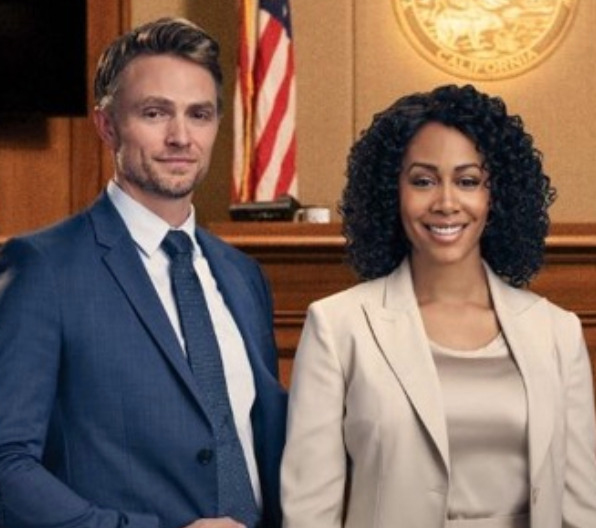Bad: (2, 16, 596, 528)
